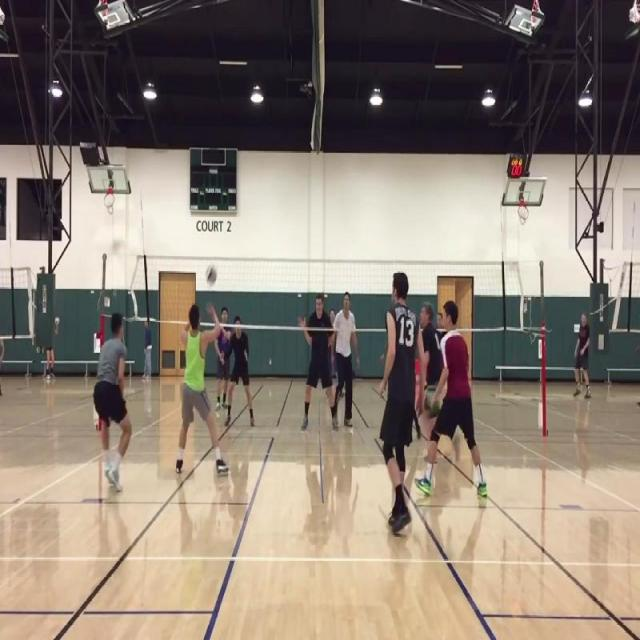volleyball: (206, 265, 216, 286)
